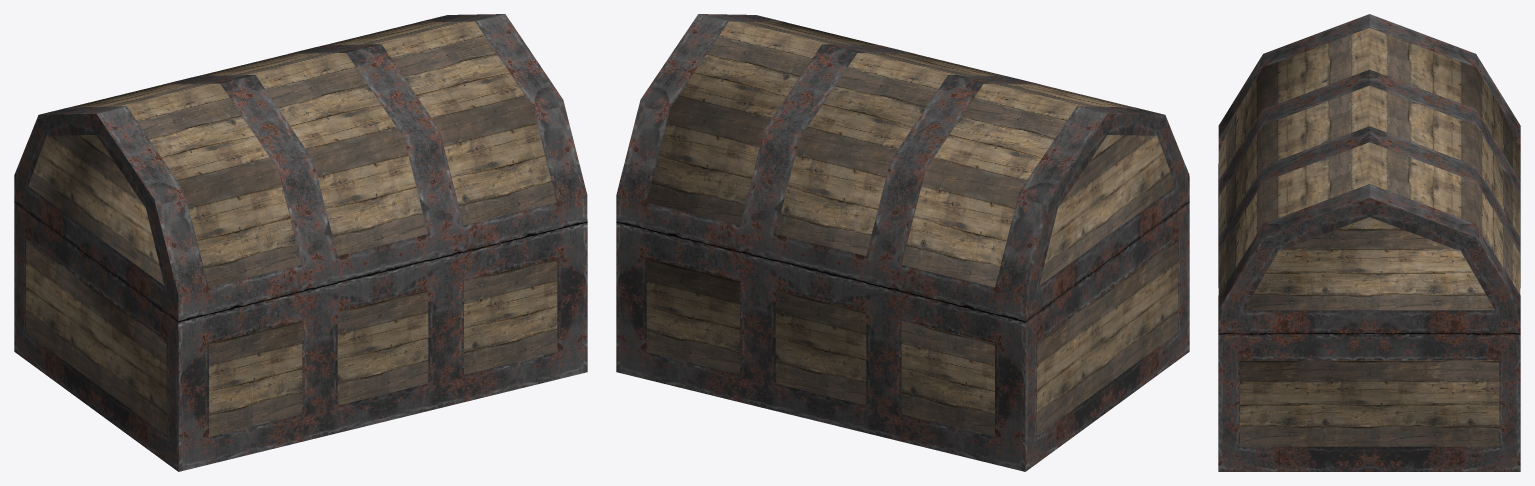
The model's file is items_box_wooden_large_lod02.fbx.
3 renders of one model, left to right at view 1: azimuth 30°, elevation 25°; view 2: azimuth 150°, elevation 25°; view 3: azimuth 270°, elevation 25°, orthographic. The views are drawn at different scales.
Visible parts, largest first — view 1: items_box_wooden_large_lod02; view 2: items_box_wooden_large_lod02; view 3: items_box_wooden_large_lod02.
Part boxes in pixels (box(x1,y1,x2,y2)): items_box_wooden_large_lod02: box(14, 14, 587, 471); items_box_wooden_large_lod02: box(616, 14, 1189, 471); items_box_wooden_large_lod02: box(1218, 14, 1520, 471).
Bounding box in the file's own units: 103 × 71.4 × 71.29.
